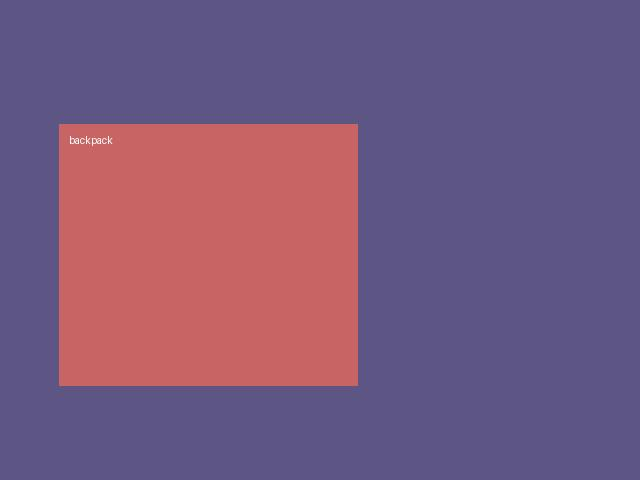backpack: (59, 124, 357, 385)
